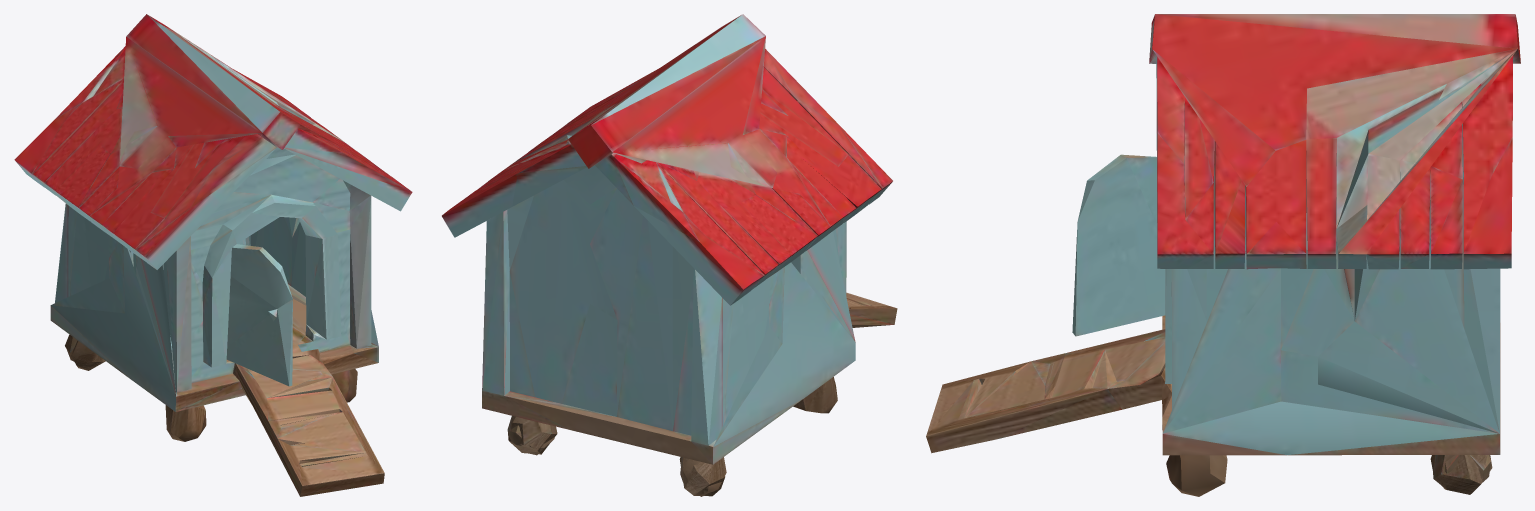
Rendered from duckhouse.glb.
The picture shows the model from 3 angles, left to right: view 1: azimuth 30°, elevation 25°; view 2: azimuth 150°, elevation 25°; view 3: azimuth 270°, elevation 25°; orthographic projection. The views are drawn at different scales.
Size of the model in its own units: 1.33 by 1.51 by 1.9.
1 material, 1 textured.
